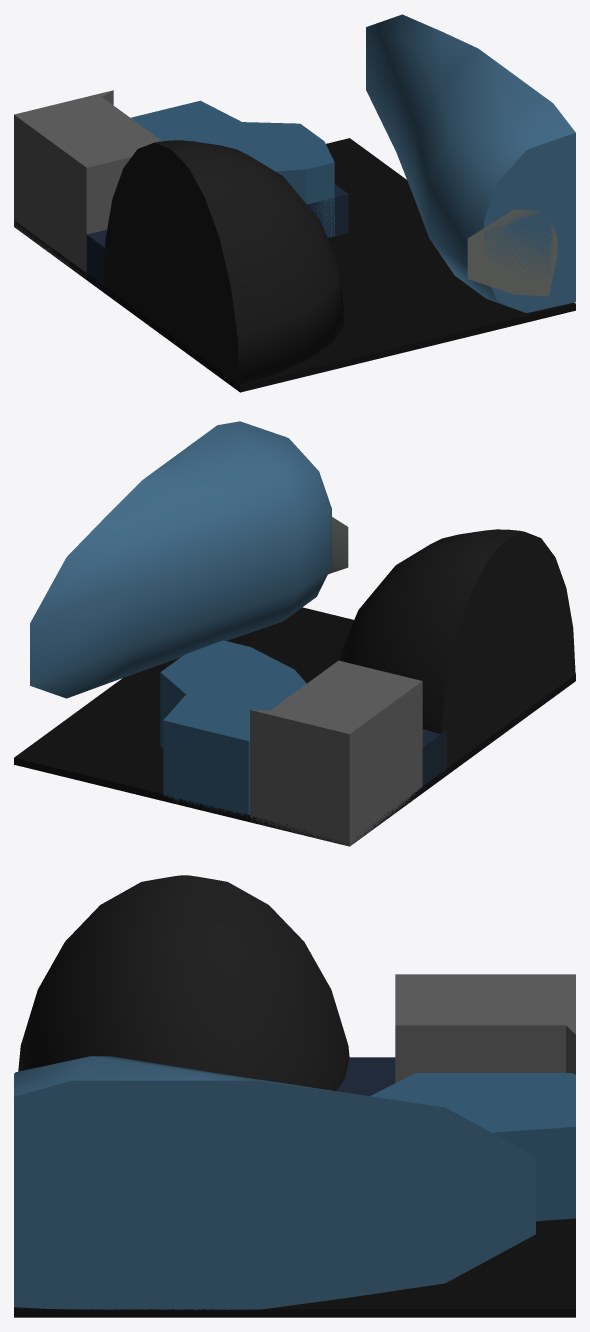
Rendered from newsho-47.glb.
3 renders of one model, top to bottom at view 1: azimuth 30°, elevation 25°; view 2: azimuth 150°, elevation 25°; view 3: azimuth 270°, elevation 25°, orthographic. The views are drawn at different scales.
Parts seen in each view (by area): view 1: newsho-47; view 2: newsho-47; view 3: newsho-47.
Boxes of the visible parts, left/top/right/bottom form: newsho-47: left=14, top=14, right=575, bottom=392; newsho-47: left=14, top=421, right=575, bottom=846; newsho-47: left=14, top=875, right=575, bottom=1317.
Size of the model in its own units: 2 by 1.09 by 2.33.
